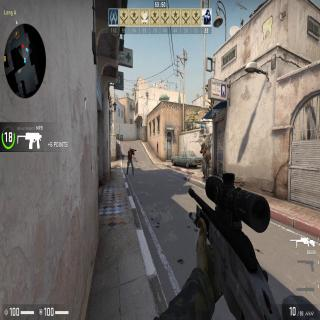T-Body: (200, 141, 208, 178), (126, 146, 136, 175)
T-Head: (202, 142, 205, 148), (130, 146, 133, 150)
